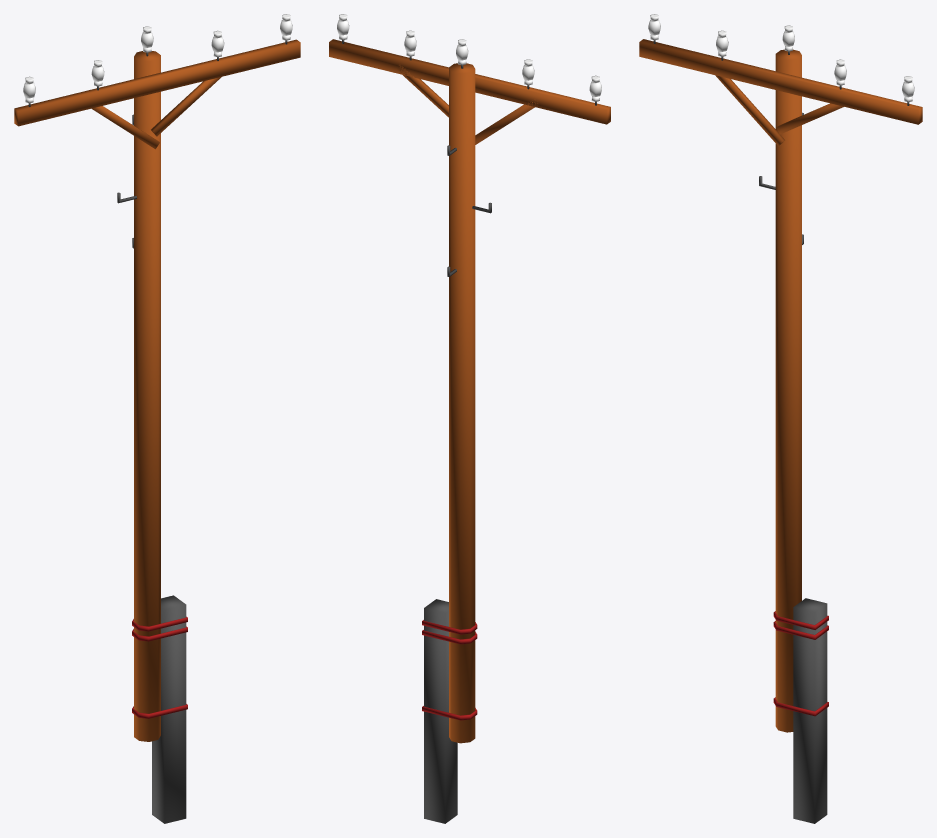
Rendered from simyog'och.obj.
3 renders of one model, left to right at view 1: azimuth 30°, elevation 25°; view 2: azimuth 150°, elevation 25°; view 3: azimuth 330°, elevation 25°, orthographic.
Visible parts, largest first — view 1: Cylinder014, Box005, Box002, Box010, Box009; view 2: Cylinder014, Box005, Box002, Box009, Box010; view 3: Cylinder014, Box005, Box002, Box009, Box010.
Part boxes in pixels (x1,y1,x2,y2): Cylinder014: (134,51,160,741); Box005: (152,595,186,823); Box002: (14,39,300,126); Box010: (151,77,221,136); Box009: (92,106,159,149); Cylinder014: (449,63,475,743); Box005: (424,599,457,823); Box002: (329,39,610,124); Box009: (475,102,537,144); Box010: (396,65,448,117); Cylinder014: (775,49,801,732); Box005: (793,598,827,823); Box002: (639,39,922,124); Box009: (715,75,784,146); Box010: (776,103,843,134).
Size of the model in its own units: 1380 by 3706 by 222.
